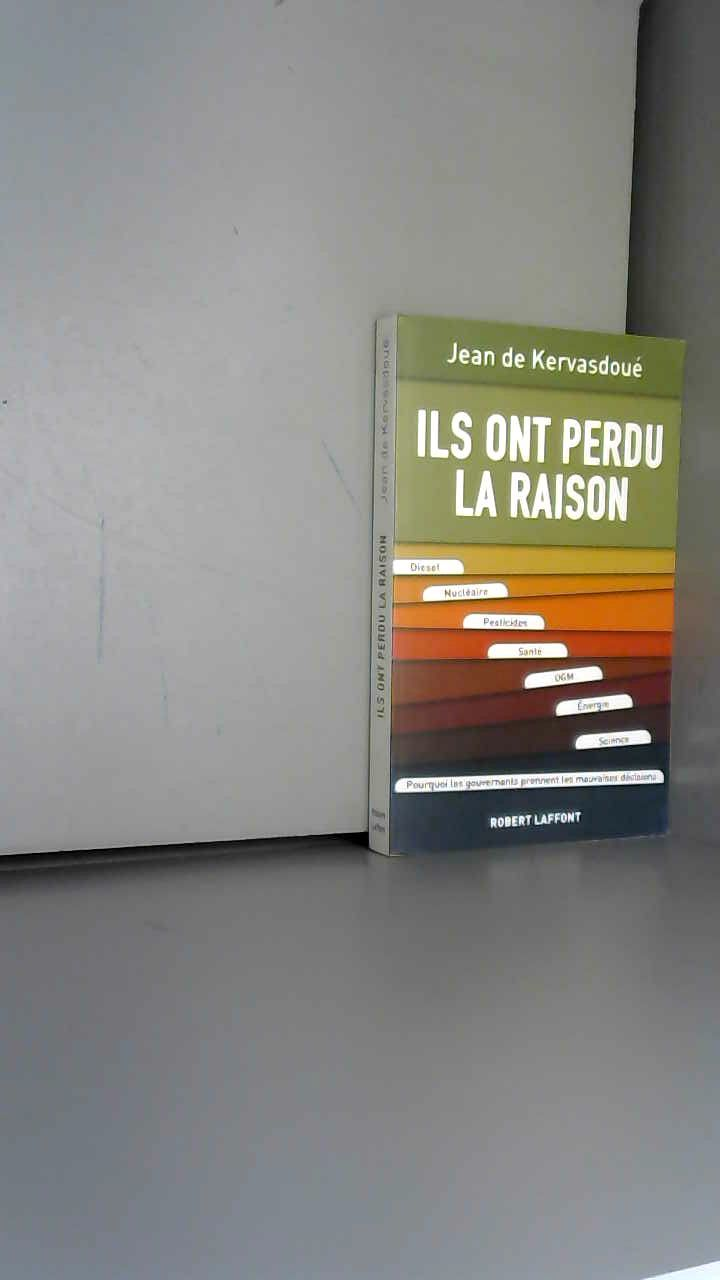book: (329, 267, 715, 890)
